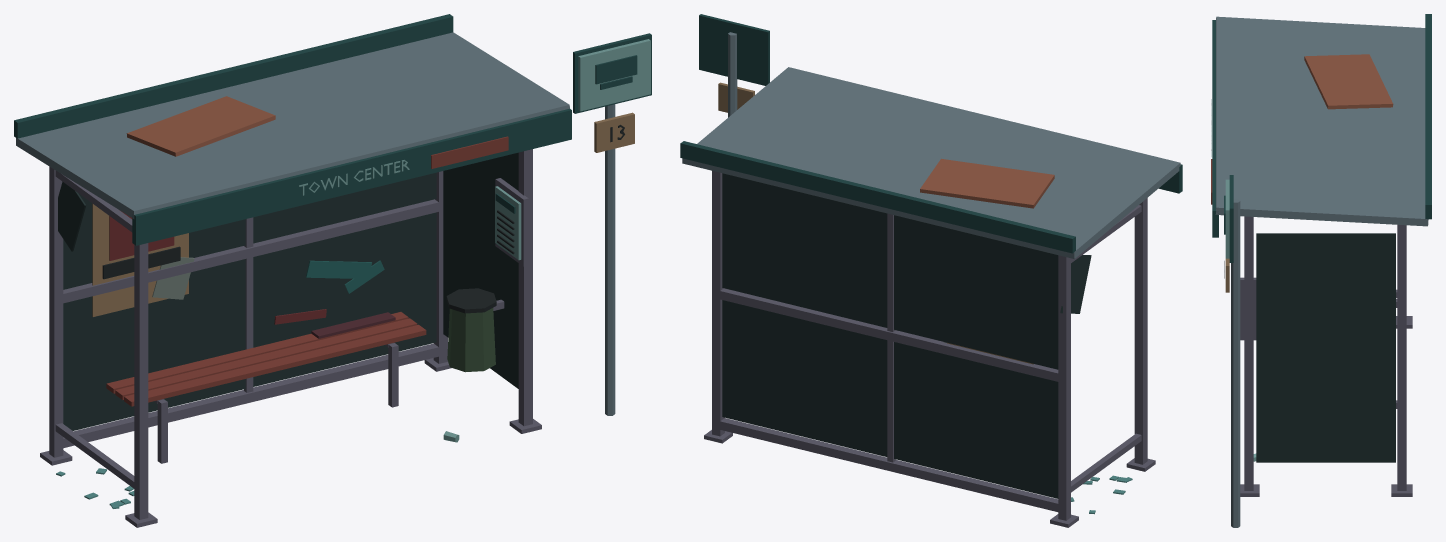
Rendered from statie_centru.glb.
3 renders of one model, left to right at view 1: azimuth 30°, elevation 25°; view 2: azimuth 150°, elevation 25°; view 3: azimuth 270°, elevation 25°, orthographic. The views are drawn at different scales.
Parts seen in each view (by area): view 1: Statie, Geamuri; view 2: Geamuri, Statie; view 3: Statie, Geamuri.
Boxes of the visible parts, x1,y1,x2,y2 form: Statie: (14, 14, 651, 527); Geamuri: (58, 152, 518, 430); Geamuri: (722, 173, 1091, 498); Statie: (680, 14, 1182, 527); Statie: (1211, 14, 1431, 527); Geamuri: (1256, 233, 1395, 462).
Bounding box in the file's own units: 4.1 × 2.77 × 1.66.
